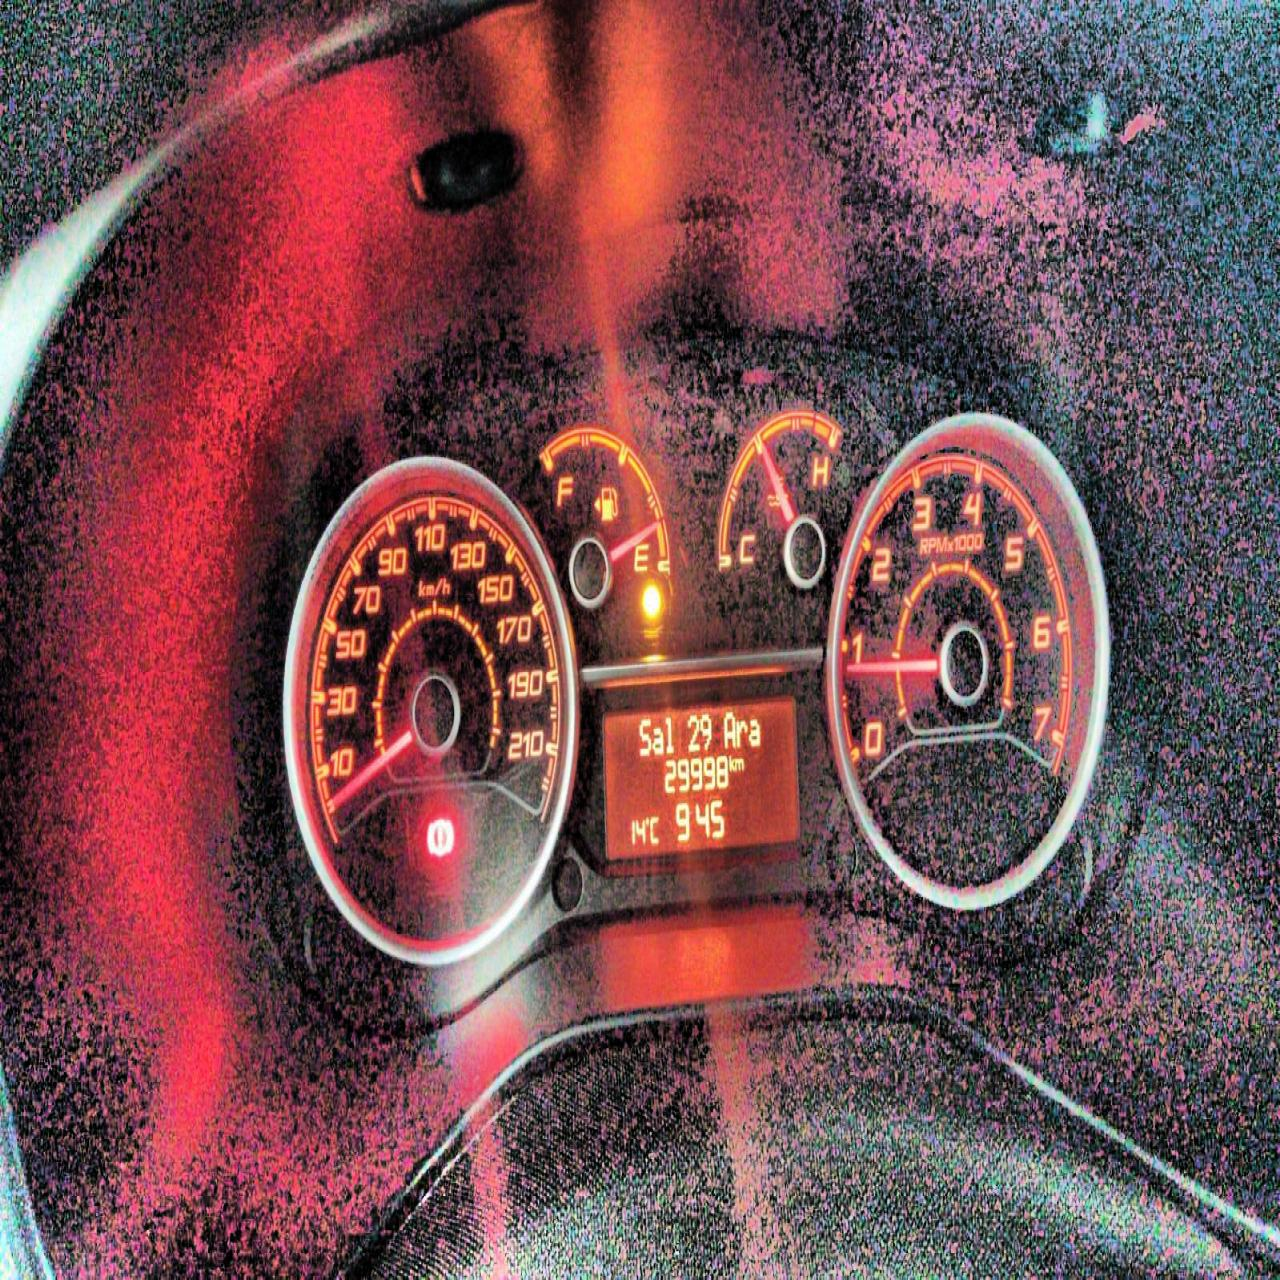1: (629, 817, 635, 847)
2: (686, 712, 699, 749), (662, 756, 675, 791)
4: (694, 798, 709, 838), (636, 817, 645, 846)
5: (710, 797, 724, 839)
8: (716, 751, 727, 788)
9: (675, 803, 689, 839), (702, 754, 716, 788), (675, 757, 689, 791), (689, 755, 702, 789), (700, 710, 710, 749)
X: (638, 717, 651, 756), (722, 710, 735, 749), (663, 714, 674, 754), (735, 717, 748, 748), (749, 715, 761, 747), (649, 813, 660, 846), (653, 726, 663, 753), (735, 755, 744, 770), (728, 751, 735, 770)
odometer: (599, 690, 801, 853)
